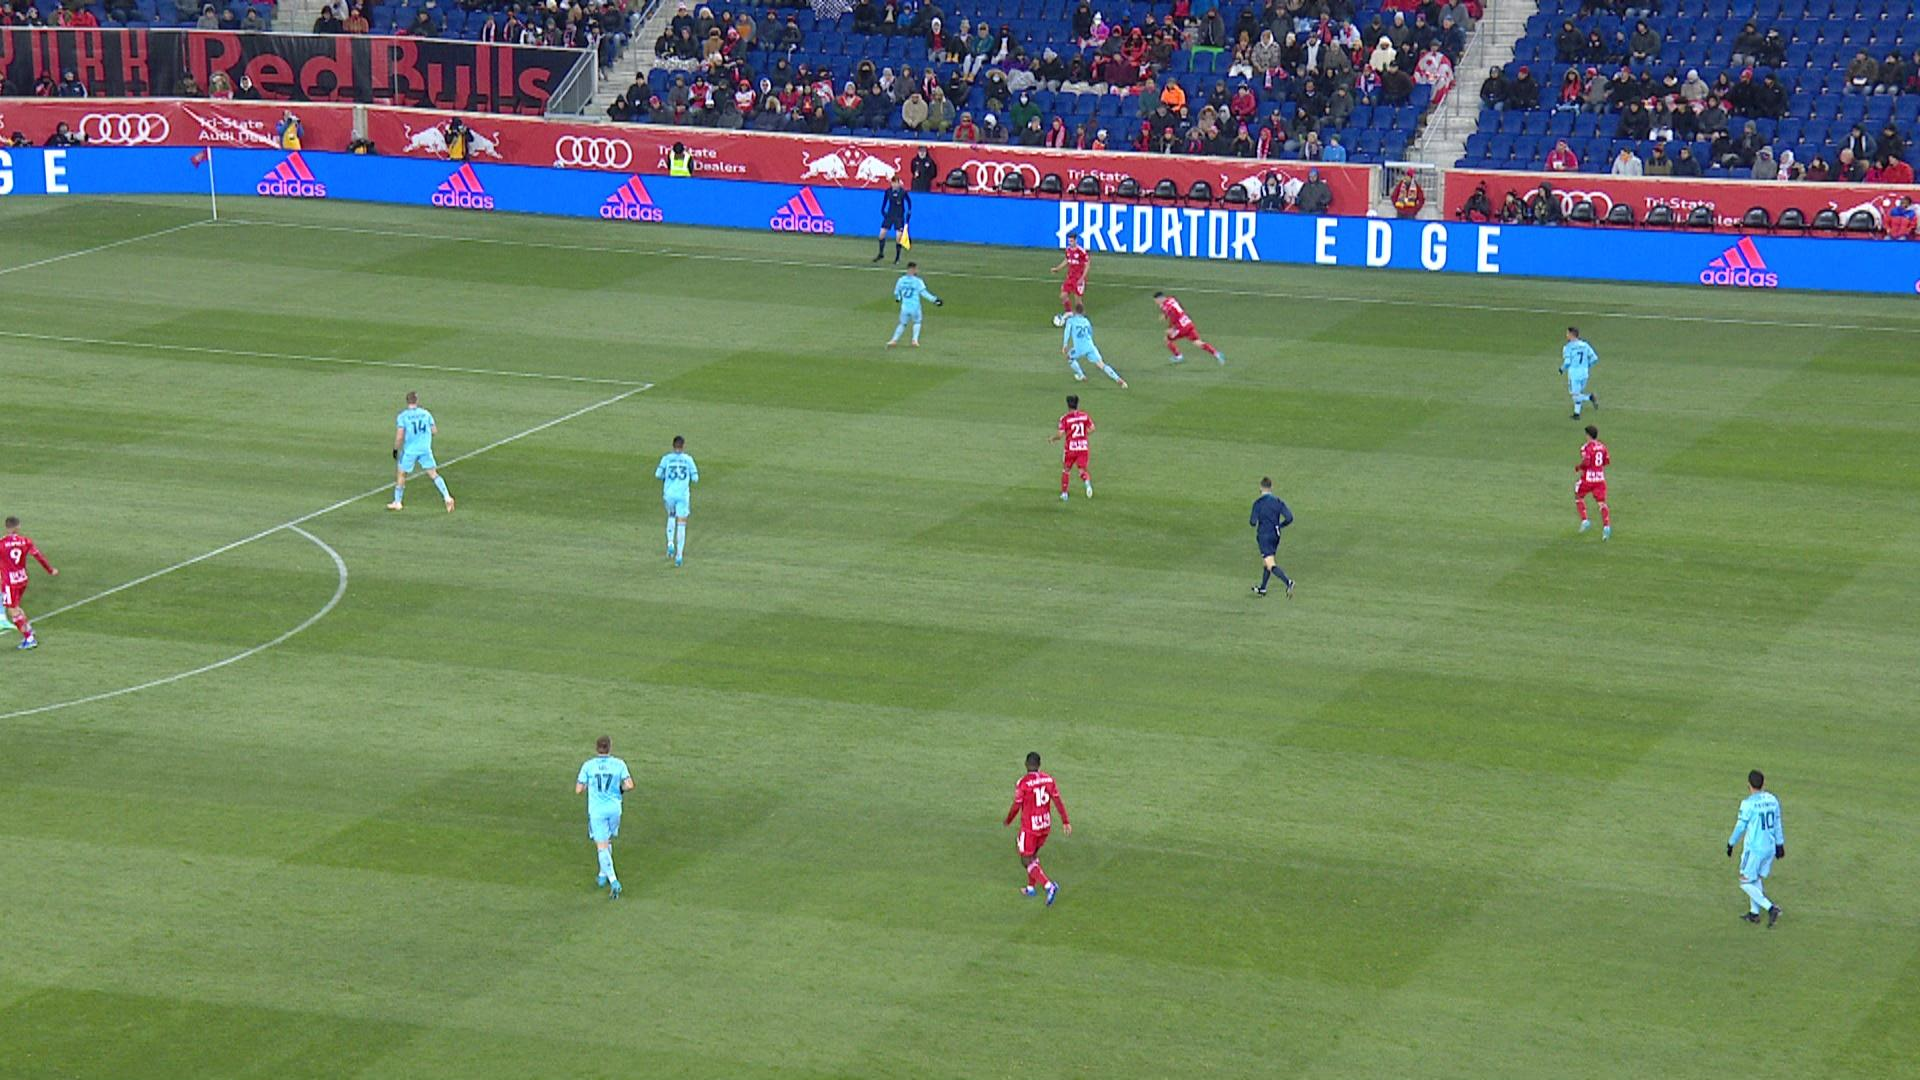football: (1052, 314, 1065, 327)
